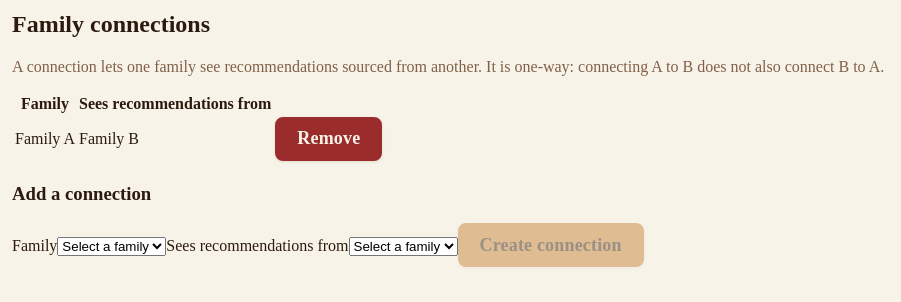
it: ConnectionsTab › shows an error when deleting a connection fails
The image size is (901, 302).
Click the button "Remove". click: click(329, 139)
box: [275,117,382,161]
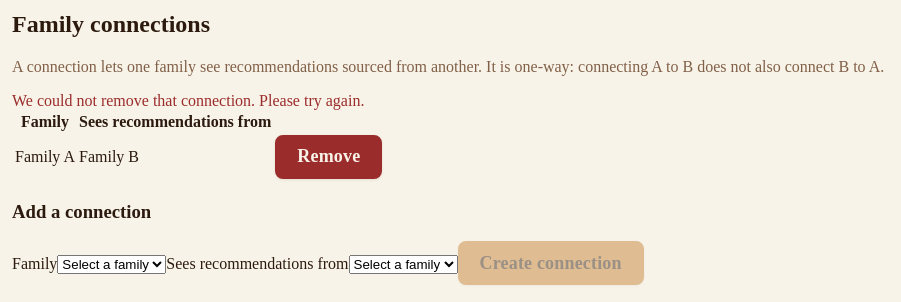
Expected: the message shows "could not remove", [12,92,364,109]
